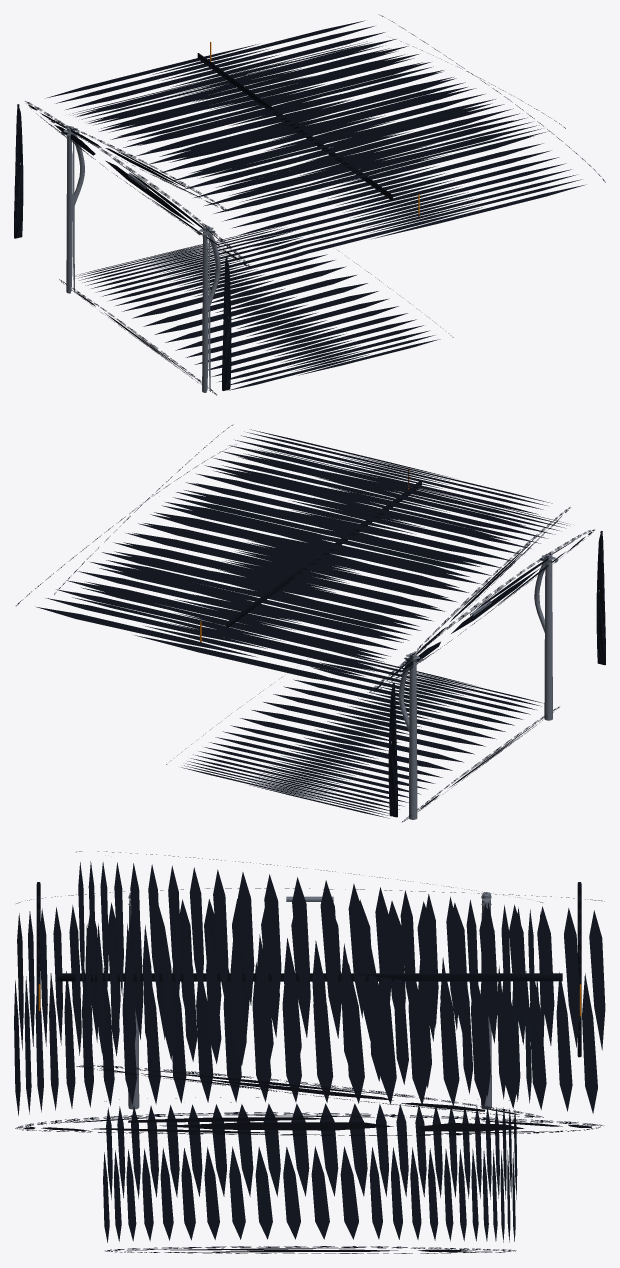
Rendered from rear_wing.glb.
3 views of the same model, one above another, from view 1: azimuth 30°, elevation 25°; view 2: azimuth 150°, elevation 25°; view 3: azimuth 270°, elevation 25° (orthographic). The views are drawn at different scales.
Parts seen in each view (by area): view 1: RearWing_Assembly; view 2: RearWing_Assembly; view 3: RearWing_Assembly.
Part boxes in pixels (<box>): RearWing_Assembly: <box>14,14,605,395</box>; RearWing_Assembly: <box>16,424,605,822</box>; RearWing_Assembly: <box>14,851,605,1253</box>.
Size of the model in its own units: 0.956 by 0.4801 by 1.01.
